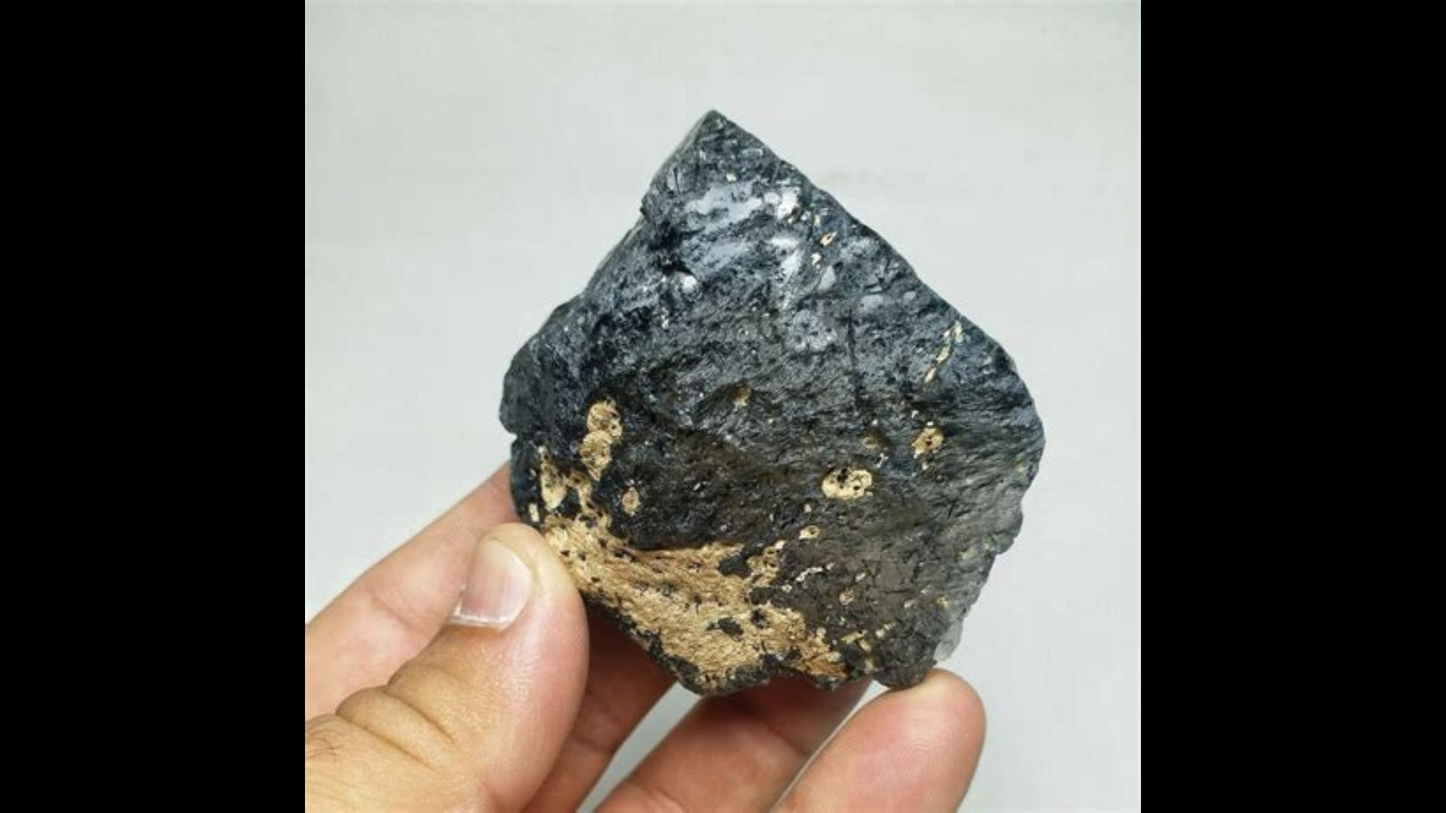rock: (501, 111, 1041, 693)
